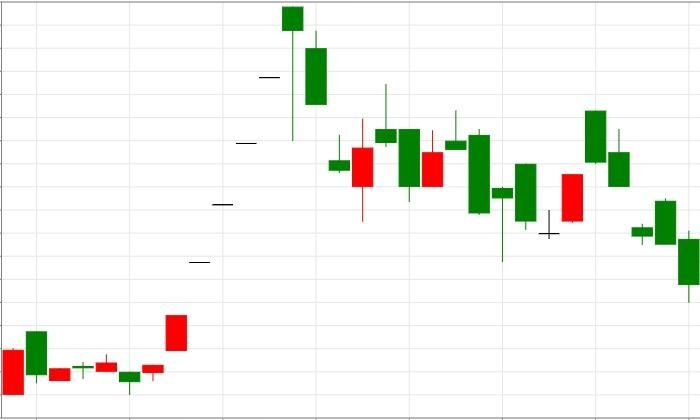hanging_man_fall: (119, 6, 304, 394)
morning_star_rise: (444, 111, 584, 261)
